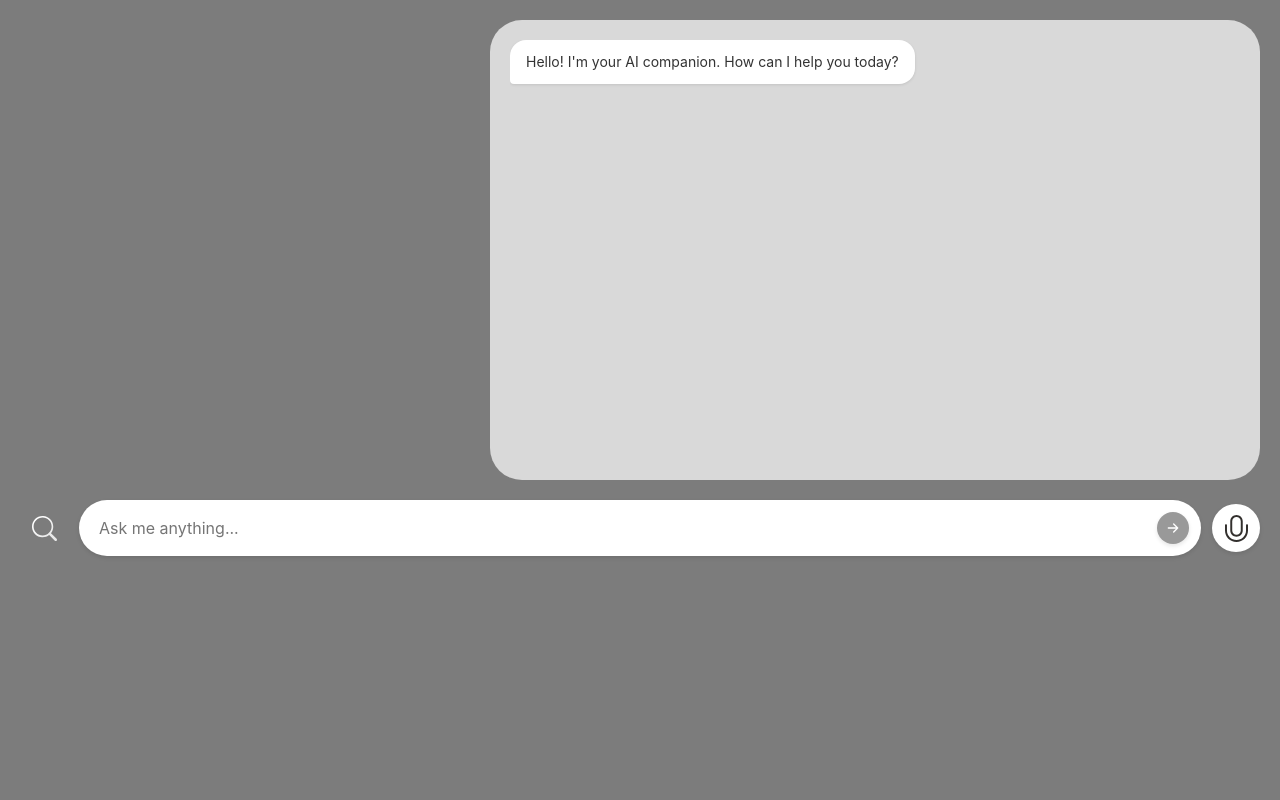
Scenario: maps CONFIGURATION_ERROR to a friendly message without exposing provider details
Type "My question" into the field at (640, 528), box [79, 500, 1201, 556]
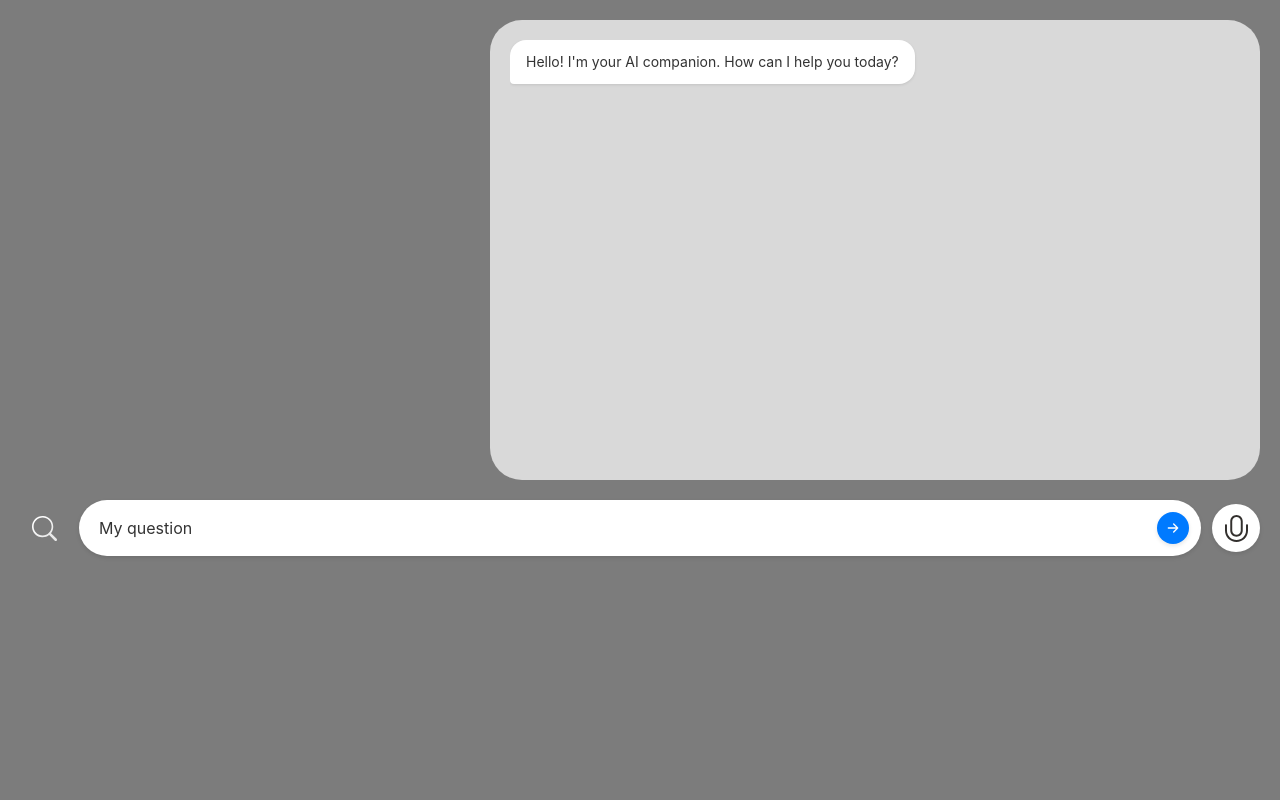
Click the button named "Send message" at (1173, 528), box [1157, 512, 1189, 544]
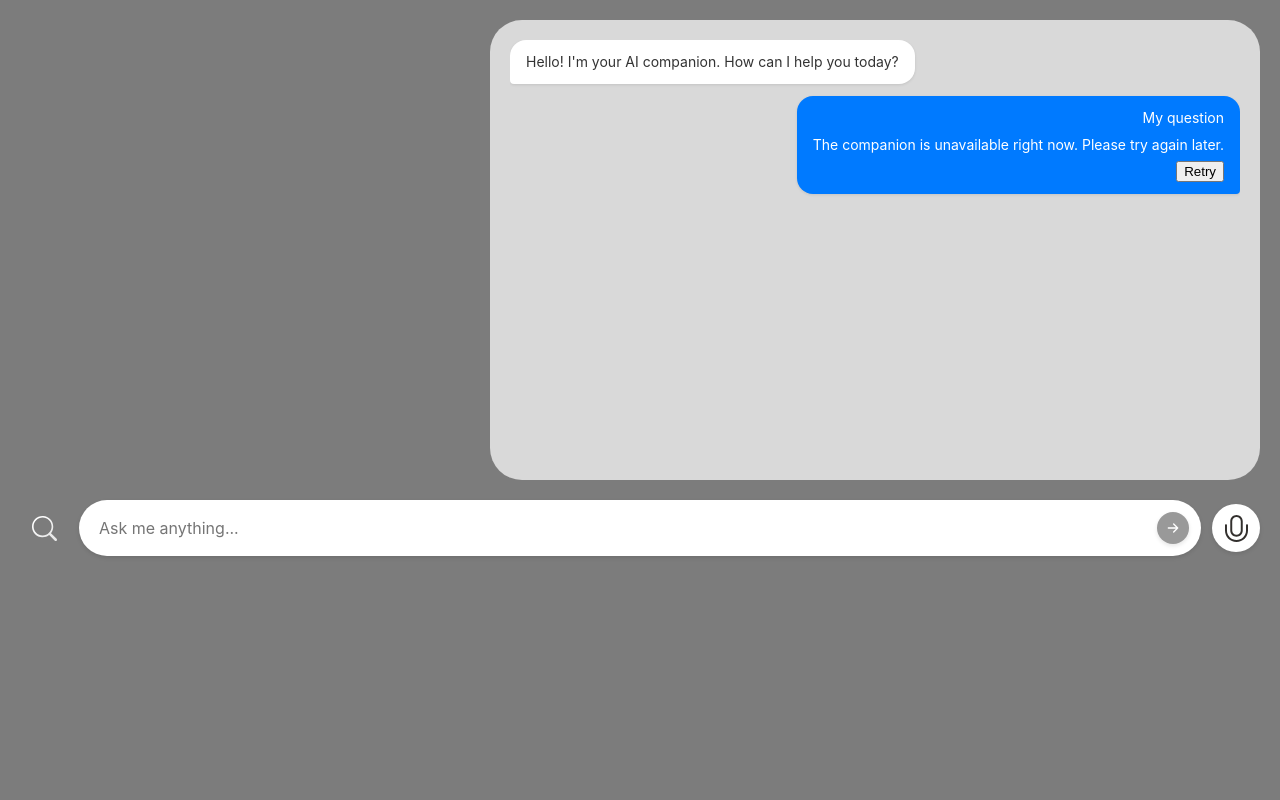
Now the message shows "unavailable", box [813, 136, 1224, 153]
Now the button with aria-label "Retry message" is enabled, box [1176, 161, 1224, 182]
